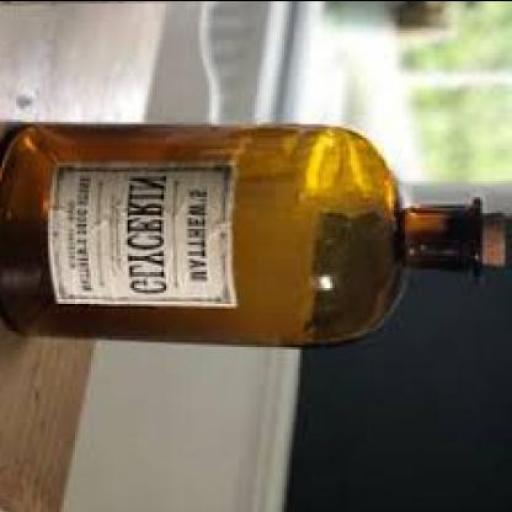glass: (2, 125, 488, 350)
